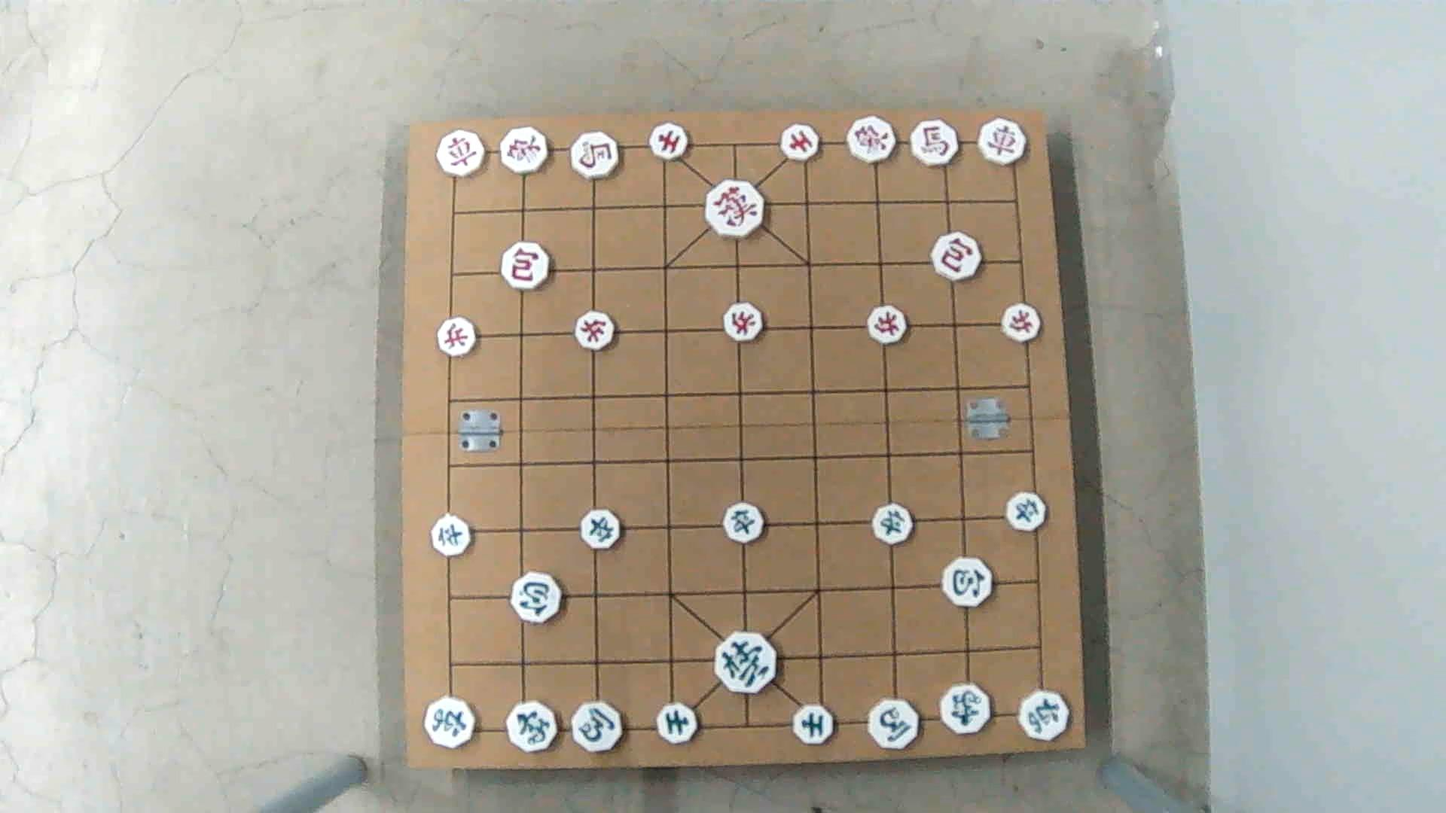cha_green: (425, 696, 475, 750), (1018, 693, 1073, 740)
cha_red: (975, 120, 1028, 163), (435, 132, 487, 175)
jol_green: (868, 506, 916, 542), (578, 510, 623, 547), (429, 519, 473, 556), (721, 504, 766, 540), (1005, 495, 1048, 530)
jol_red: (436, 321, 481, 356), (722, 306, 765, 342), (864, 309, 909, 343), (572, 315, 617, 349), (999, 304, 1043, 338)
ma_green: (572, 704, 629, 751), (865, 702, 919, 749)
ma_red: (569, 133, 621, 178), (911, 123, 961, 166)
po_green: (507, 577, 563, 622), (942, 562, 996, 606)
po_red: (932, 238, 985, 281), (503, 246, 555, 288)
sa_green: (653, 705, 697, 743), (792, 707, 836, 744)
sa_red: (648, 124, 691, 163), (780, 126, 822, 159)
sang_green: (505, 700, 557, 752), (937, 687, 991, 736)
sang_red: (498, 129, 551, 175), (847, 120, 899, 163)
wang_green: (716, 636, 780, 693)
wang_red: (701, 178, 766, 232)
